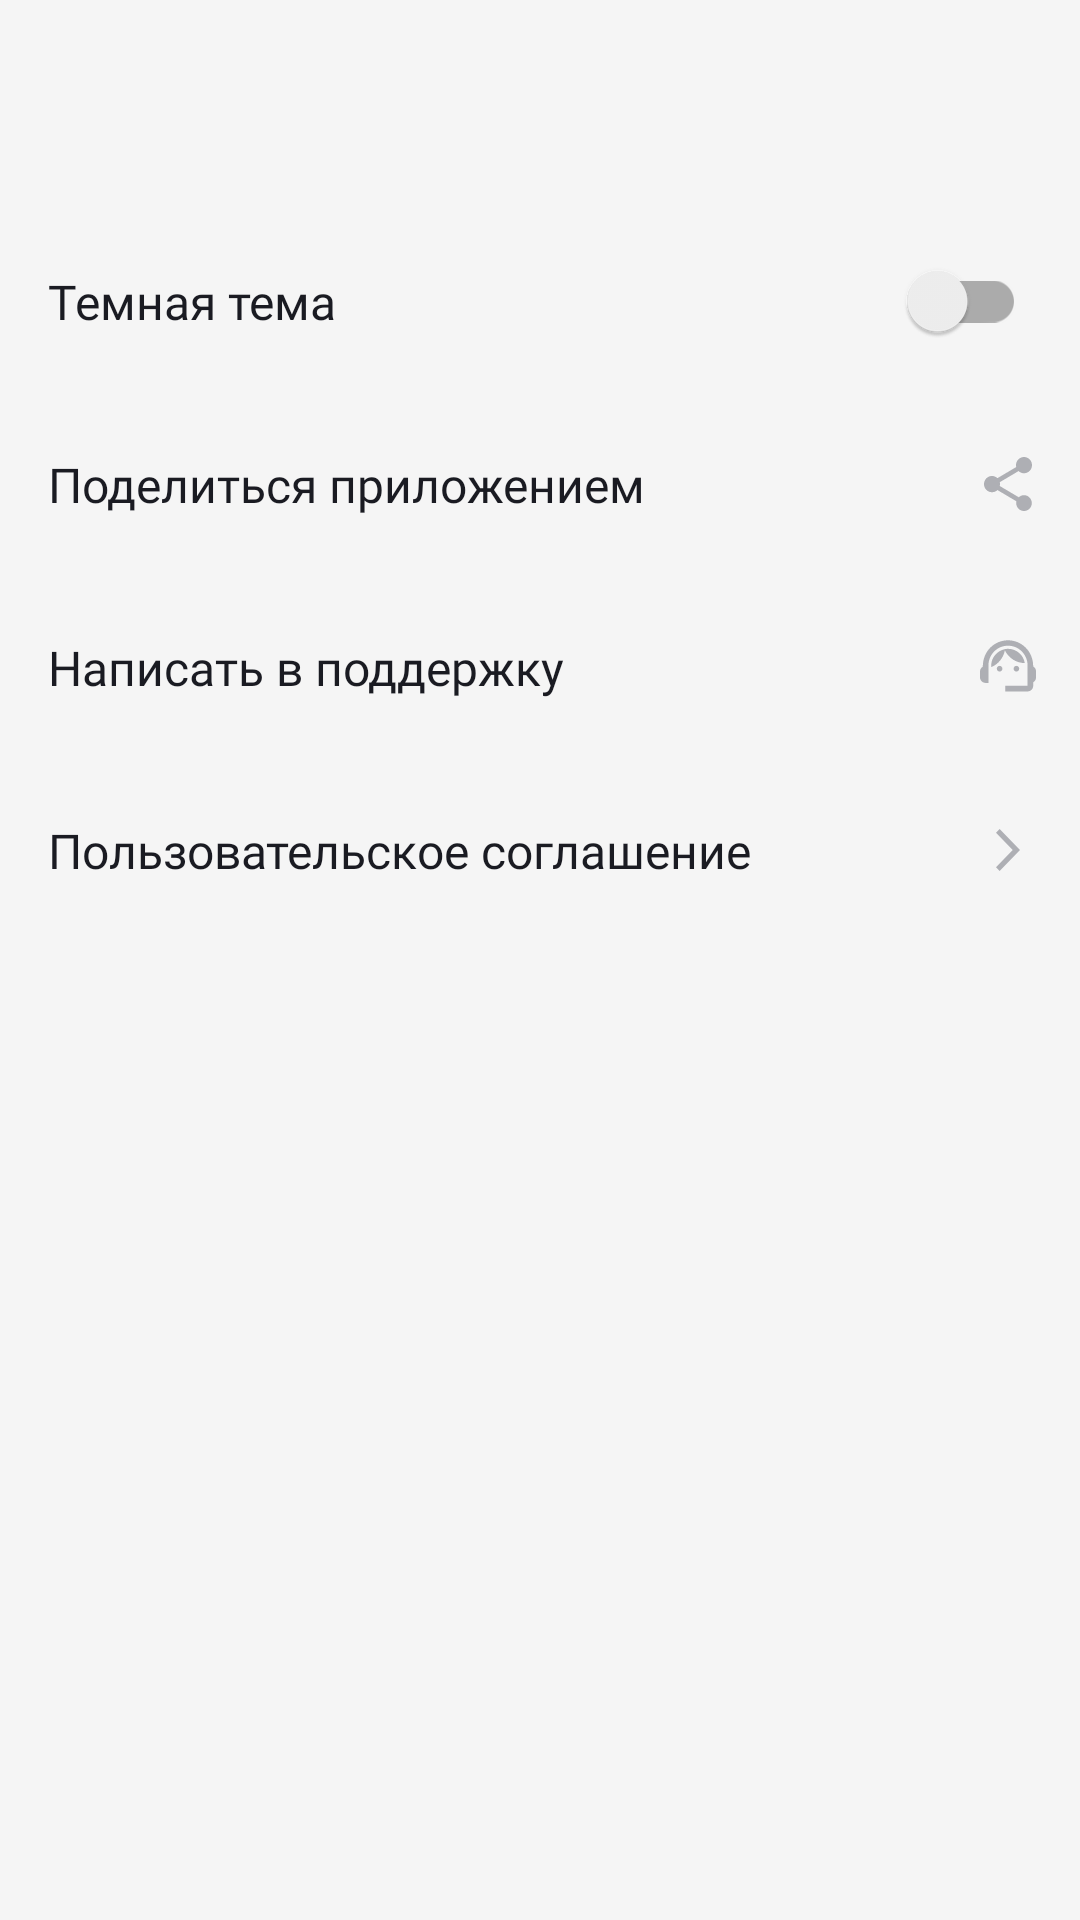

Screen size 1080 x 1920. Icon name, then its center in pixels as (x=x, y=y):
share app: (x=1008, y=484)
write to the support: (x=1008, y=666)
